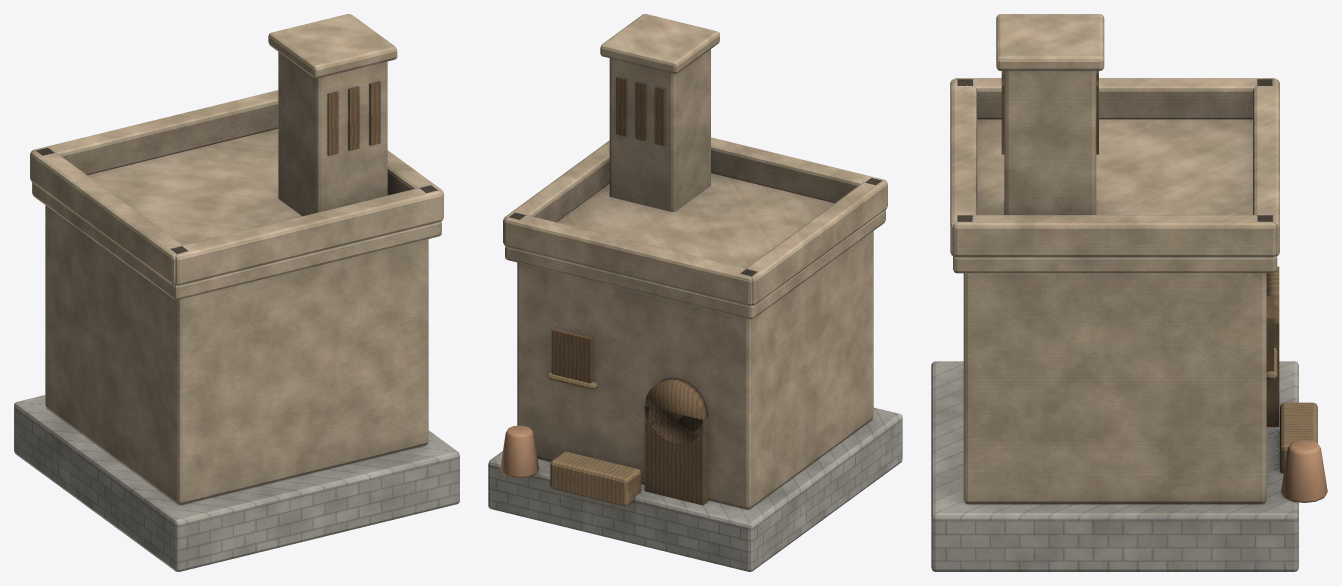
File: house.glb
The picture shows the model from 3 angles, left to right: view 1: azimuth 30°, elevation 25°; view 2: azimuth 150°, elevation 25°; view 3: azimuth 270°, elevation 25°; orthographic projection. The views are drawn at different scales.
Parts seen in each view (by area): view 1: house; view 2: house; view 3: house.
Boxes of the visible parts, x1,y1,x2,y2 form: house: (14,14,459,571); house: (488,14,902,571); house: (931,14,1327,571).
Size of the model in its own units: 3.4 by 5.07 by 3.67.
Materials: 1 (1 with a texture image).
